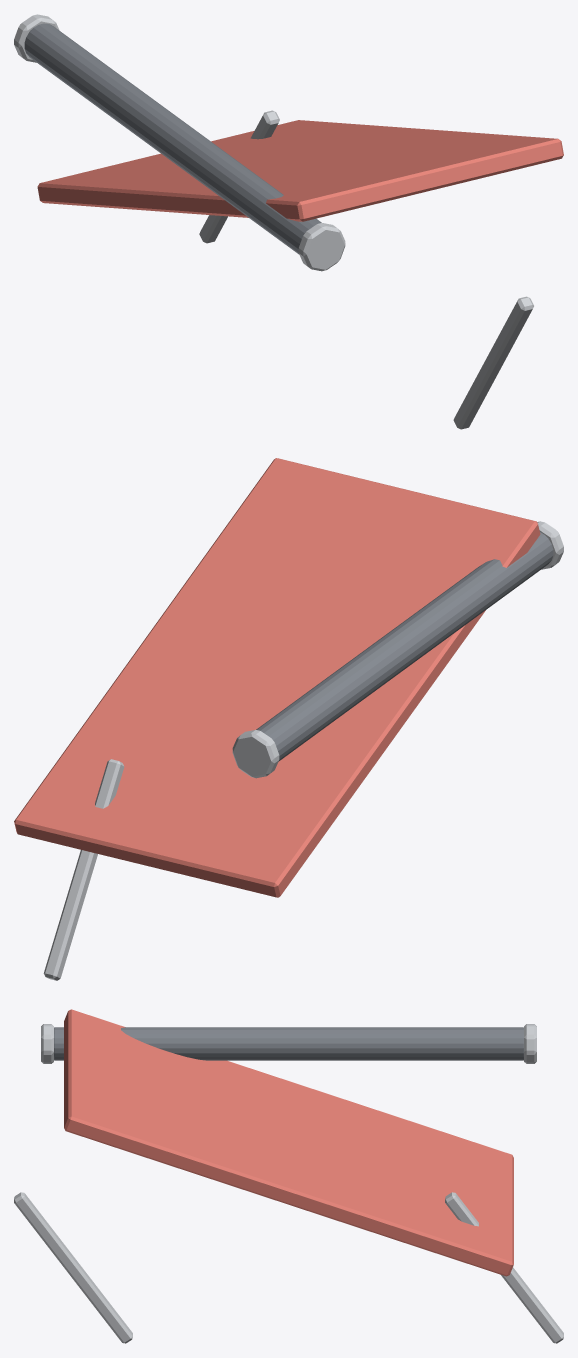
Rendered from 构件_遮阳篷_01.fbx.
The picture shows the model from 3 angles, top to bottom: view 1: azimuth 30°, elevation 25°; view 2: azimuth 150°, elevation 25°; view 3: azimuth 270°, elevation 25°; orthographic projection. The views are drawn at different scales.
Visible parts, largest first — view 1: 篷面, 卷轴, 支架.003, 端盖.002; view 2: 篷面, 卷轴, 支架.003, 端盖.002; view 3: 篷面, 卷轴, 支架.003, 端盖.002.
Part boxes in pixels (x1=…): 篷面: x1=37, y1=120, x2=563, y2=221; 卷轴: x1=24, y1=23, x2=321, y2=254; 支架.003: x1=199, y1=110, x2=533, y2=429; 端盖.002: x1=14, y1=14, x2=345, y2=271; 篷面: x1=14, y1=458, x2=540, y2=897; 卷轴: x1=256, y1=532, x2=553, y2=761; 支架.003: x1=43, y1=759, x2=124, y2=980; 端盖.002: x1=232, y1=521, x2=563, y2=778; 篷面: x1=64, y1=1009, x2=513, y2=1276; 卷轴: x1=54, y1=1027, x2=523, y2=1060; 支架.003: x1=14, y1=1192, x2=563, y2=1343; 端盖.002: x1=41, y1=1024, x2=536, y2=1063.
Size of the model in its own units: 125 by 129 by 255.
